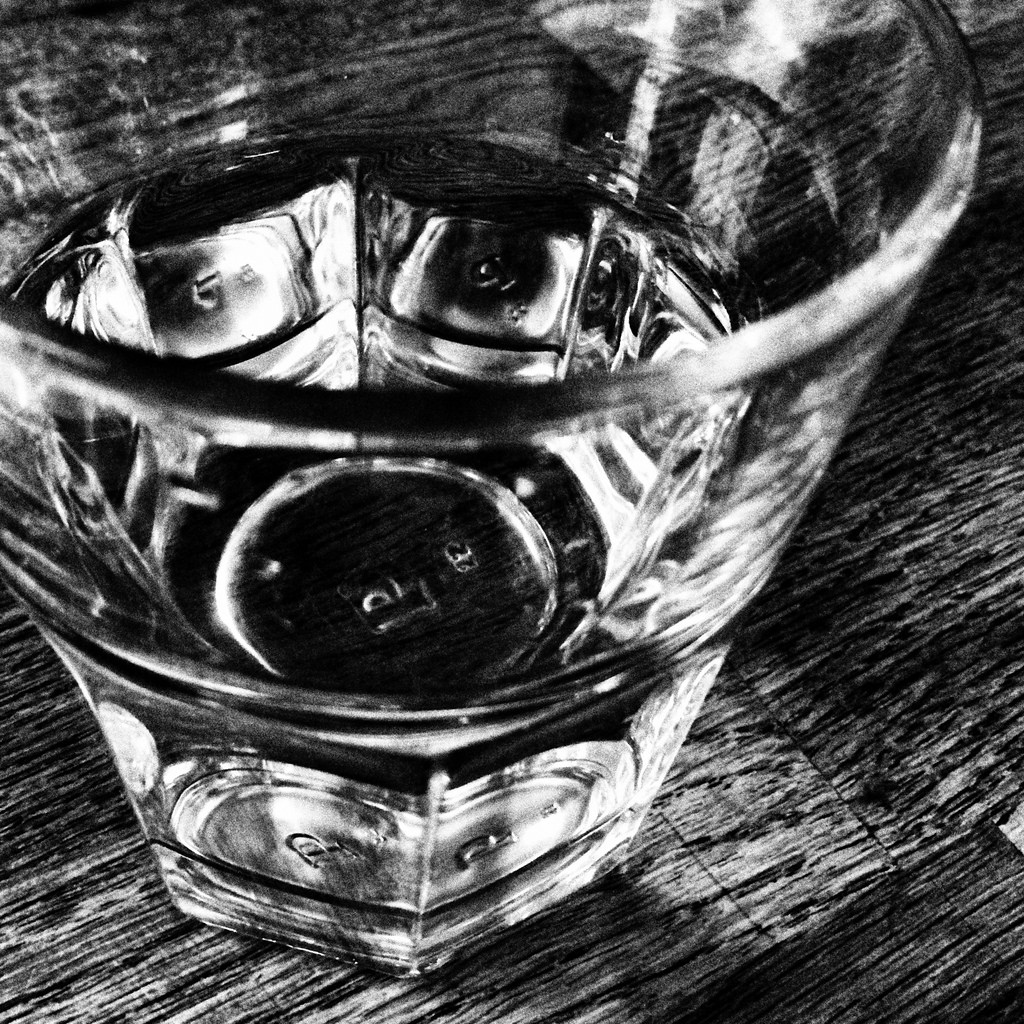glass of water: (6, 1, 967, 952)
